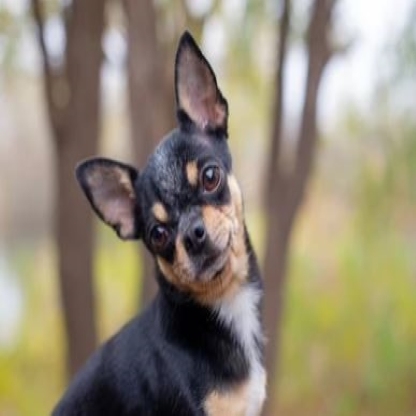chihuahua: (51, 29, 271, 416)
